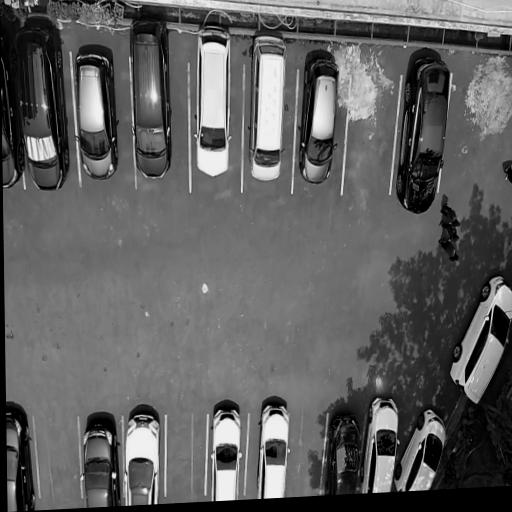Car: (12, 5, 72, 201), (124, 4, 178, 189), (447, 268, 512, 416), (397, 53, 454, 220), (190, 22, 240, 185), (69, 40, 122, 190), (244, 31, 290, 191), (296, 49, 341, 196), (0, 12, 26, 205), (120, 404, 165, 506), (78, 406, 122, 508), (399, 405, 449, 492), (206, 396, 246, 501), (362, 390, 402, 493), (253, 398, 292, 499), (325, 403, 364, 495), (6, 405, 35, 512)
Space Available: (351, 56, 389, 210), (39, 413, 77, 510), (168, 412, 205, 504), (290, 414, 320, 497)
